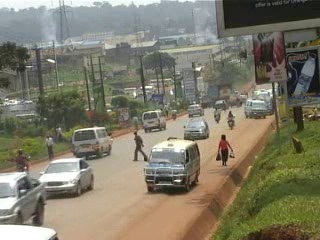Car: (38, 156, 95, 199), (180, 116, 211, 140), (186, 102, 205, 117), (212, 97, 229, 111)
Motorcycle: (11, 144, 35, 173), (225, 109, 236, 130), (211, 107, 223, 125), (169, 105, 180, 122)
